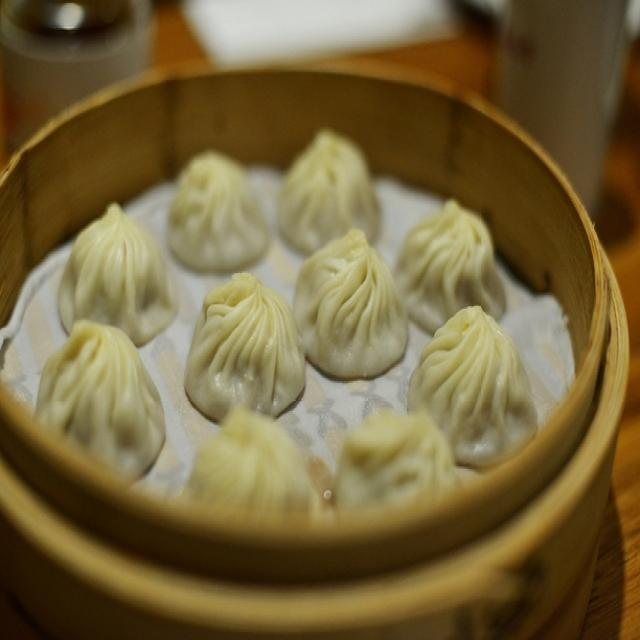带馅早点: (18, 51, 595, 614)
